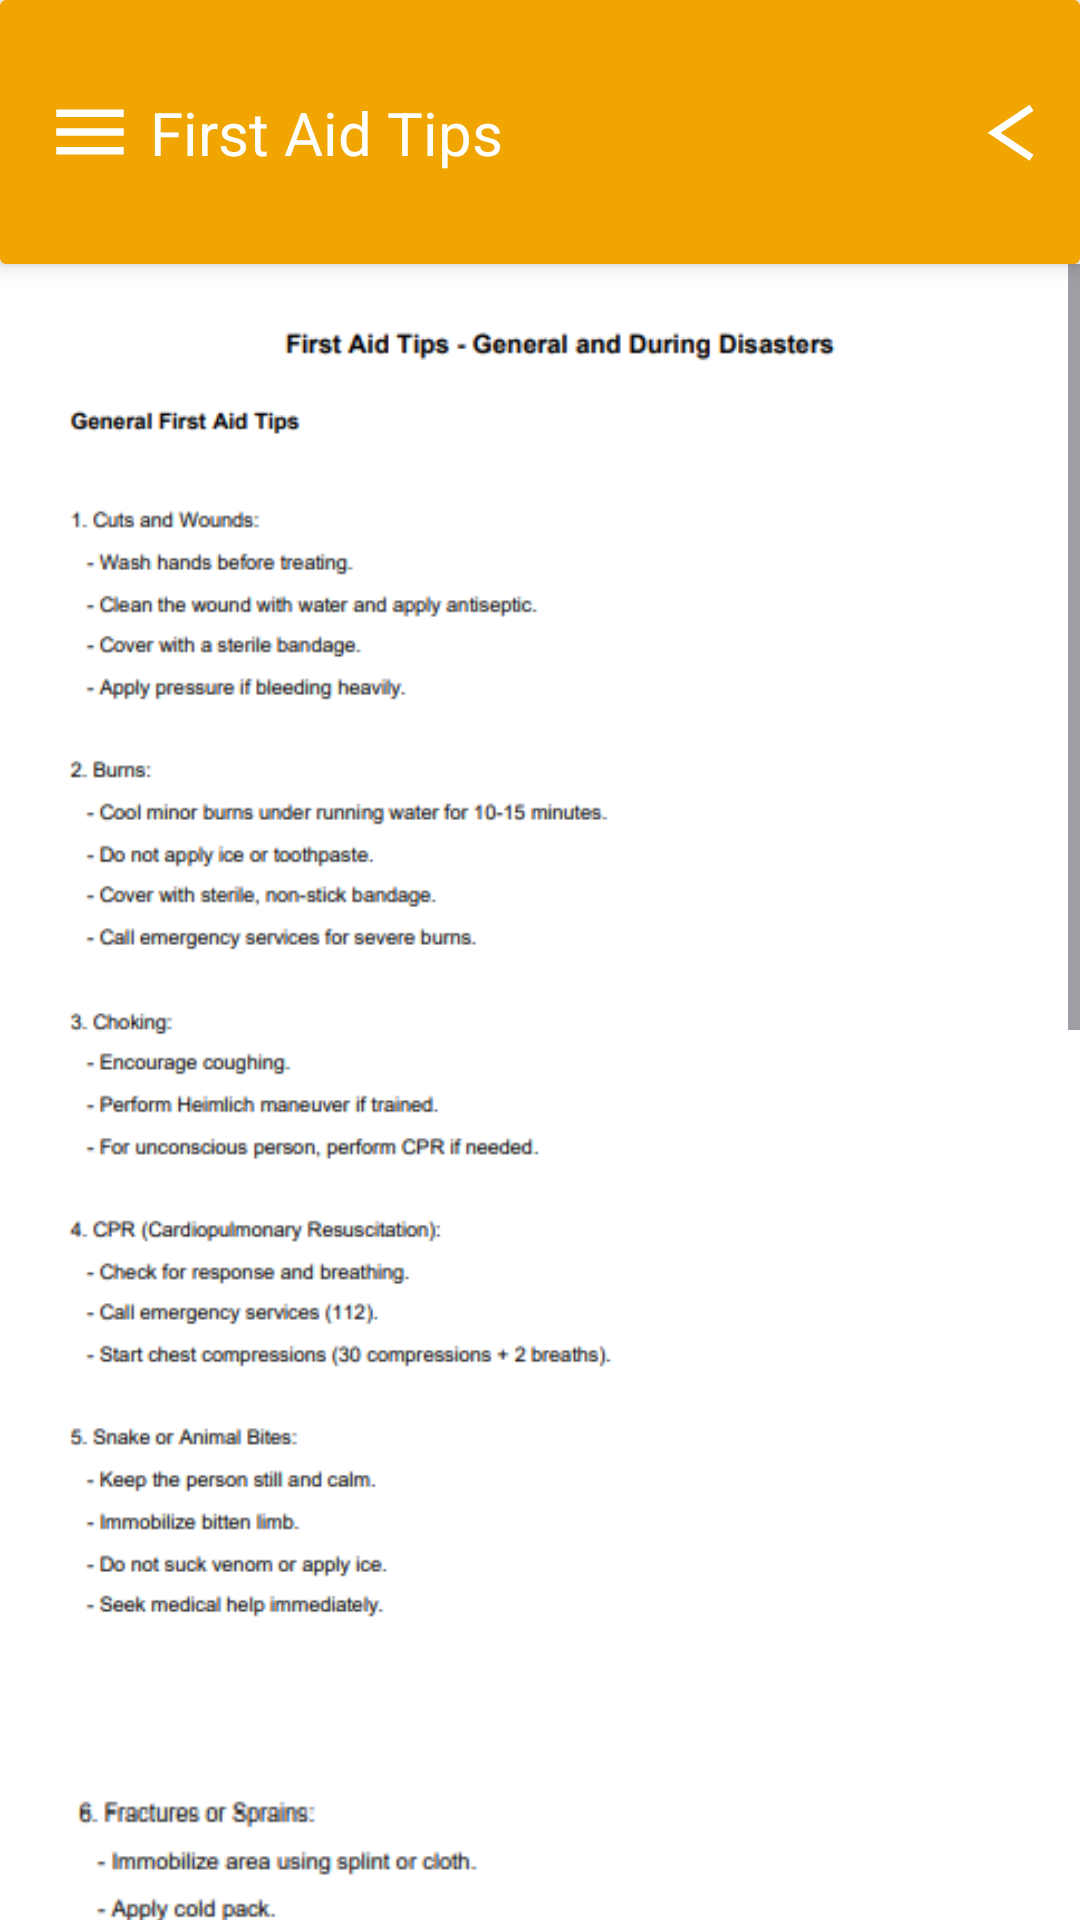

Named icons in this screenshot (1080 x 1920) and their centers, point (x, y):
Back Button: point (1011, 133)
Menu Icon: point (90, 132)
